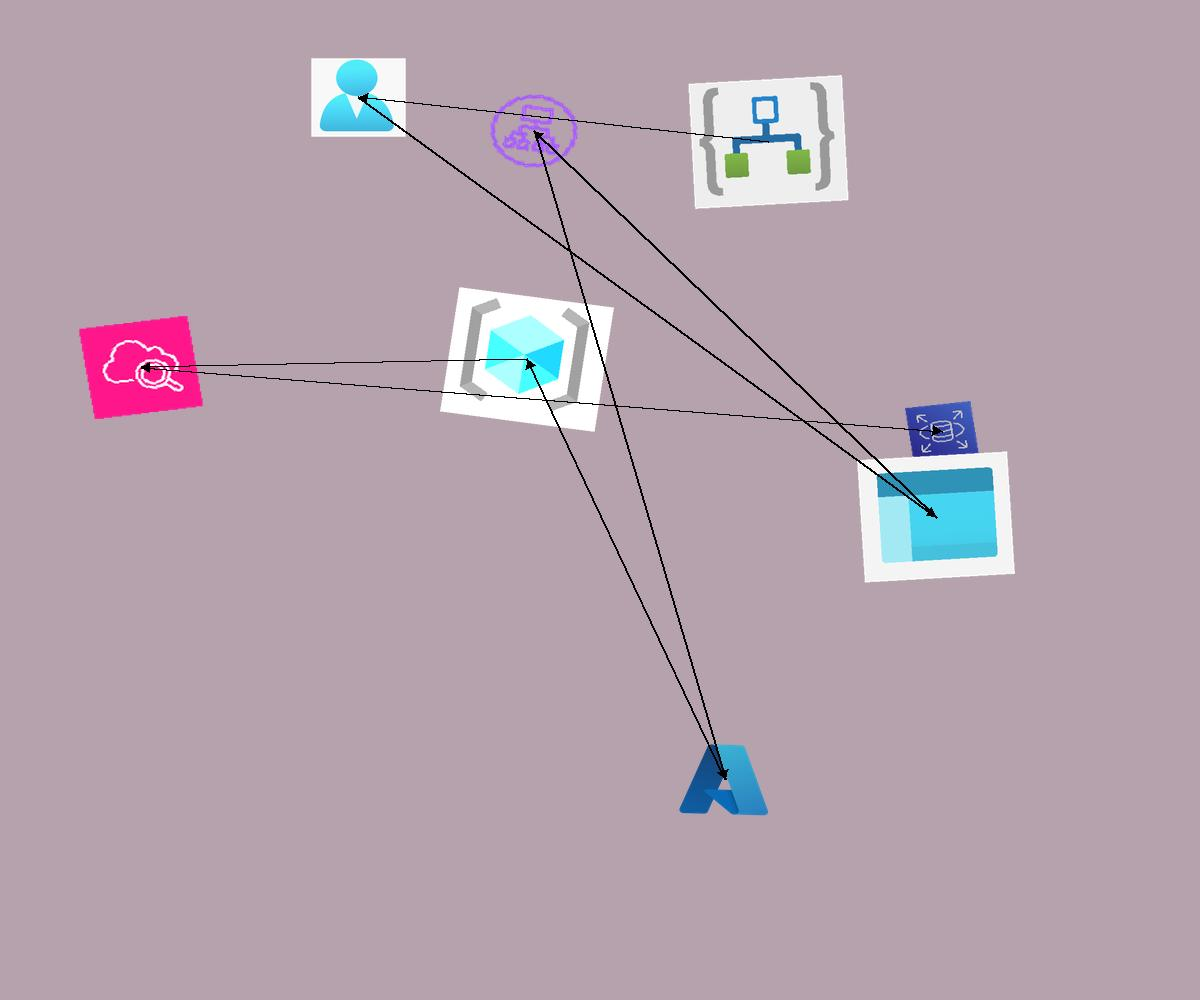AWS-CloudWatch: (78, 315, 204, 420)
AWS-RDS: (905, 401, 979, 462)
AWS-Res_Elastic-Load-Balancing_Application-Load-Balancer: (479, 85, 589, 177)
Azure_integration-204-Logic-Apps: (688, 75, 849, 209)
Azure_management-portal: (857, 451, 1015, 583)
Azure_resource_group: (440, 287, 614, 432)
Azure_services: (675, 738, 775, 821)
Azure_users: (311, 58, 406, 137)
